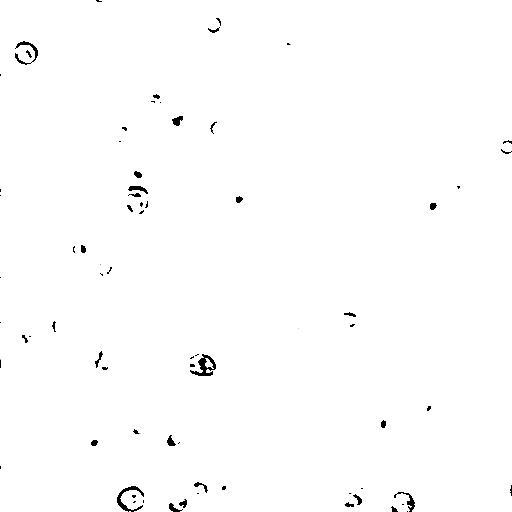micro-algae: (124, 106, 204, 184), (67, 352, 135, 418), (269, 10, 333, 74), (255, 457, 318, 511), (370, 147, 422, 200), (454, 468, 512, 512), (159, 100, 198, 141), (155, 447, 193, 485), (119, 183, 156, 221), (365, 406, 402, 442), (403, 390, 442, 421), (120, 157, 160, 187), (336, 482, 373, 512), (419, 0, 469, 22), (69, 207, 103, 239), (442, 170, 475, 201), (103, 118, 136, 149), (123, 412, 156, 443), (310, 22, 340, 53), (184, 353, 218, 379), (91, 251, 121, 280), (96, 345, 124, 376), (215, 475, 243, 506), (71, 38, 101, 66), (285, 320, 315, 348), (116, 485, 146, 512), (12, 325, 39, 353), (81, 426, 108, 454), (275, 40, 302, 66), (13, 40, 40, 65), (419, 193, 443, 218), (72, 234, 96, 259), (388, 490, 416, 511), (114, 1, 143, 20), (260, 96, 282, 119), (51, 314, 73, 337), (187, 481, 210, 503), (209, 117, 229, 141), (336, 310, 360, 330), (148, 438, 168, 462), (167, 491, 188, 511), (204, 15, 223, 34), (166, 429, 185, 448), (230, 194, 248, 206), (447, 78, 460, 94), (500, 139, 512, 155), (92, 0, 107, 4)
